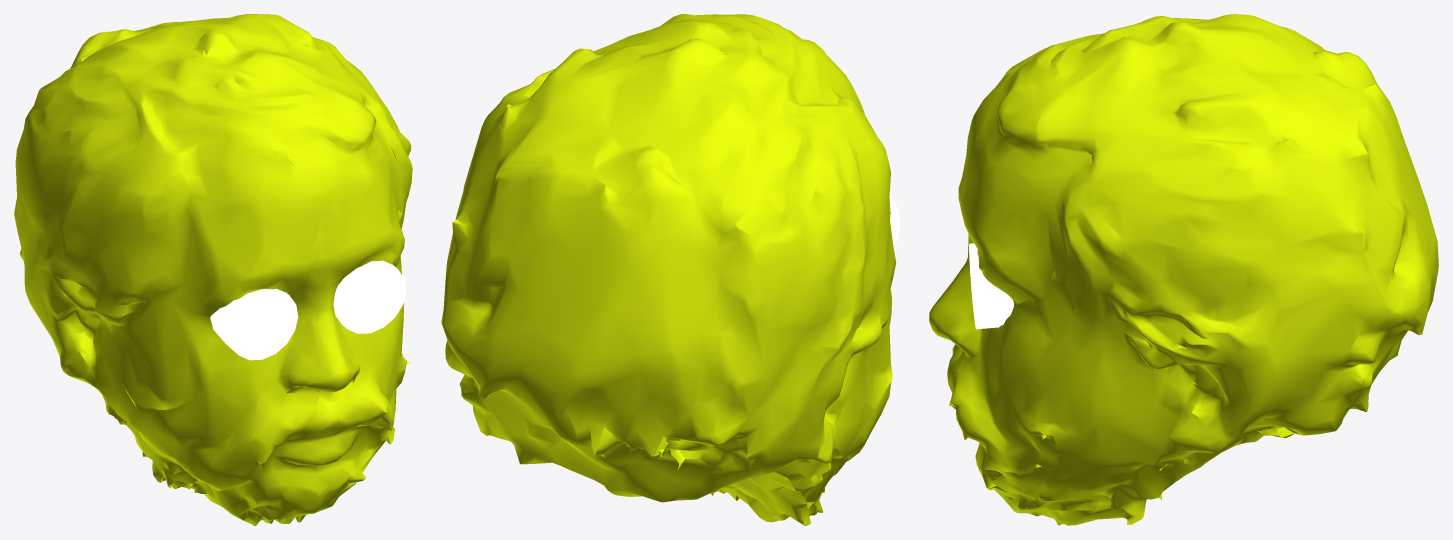
File: portrait - nico - 3D - v1.glb
3 views of the same model, side by side, from view 1: azimuth 30°, elevation 25°; view 2: azimuth 150°, elevation 25°; view 3: azimuth 270°, elevation 25° (orthographic). The views are drawn at different scales.
Parts seen in each view (by area): view 1: mesh_node, Cylindrique.1; view 2: mesh_node; view 3: mesh_node, Cylindrique.1.
Boxes of the visible parts, bbox=[...] form: mesh_node: bbox=[14, 14, 412, 525]; Cylindrique.1: bbox=[210, 260, 406, 360]; mesh_node: bbox=[441, 14, 896, 525]; mesh_node: bbox=[929, 14, 1438, 525]; Cylindrique.1: bbox=[969, 243, 1013, 329].
Bounding box in the file's own units: 1.46 × 1.9 × 1.79.
